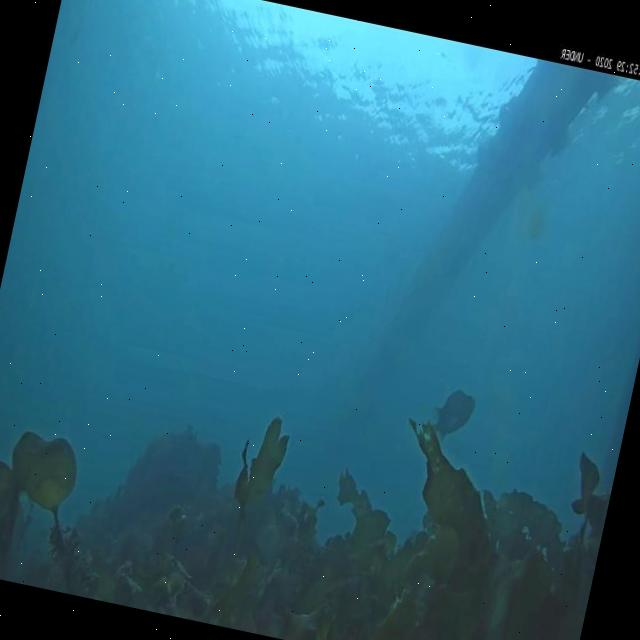fish: (422, 382, 476, 447)
